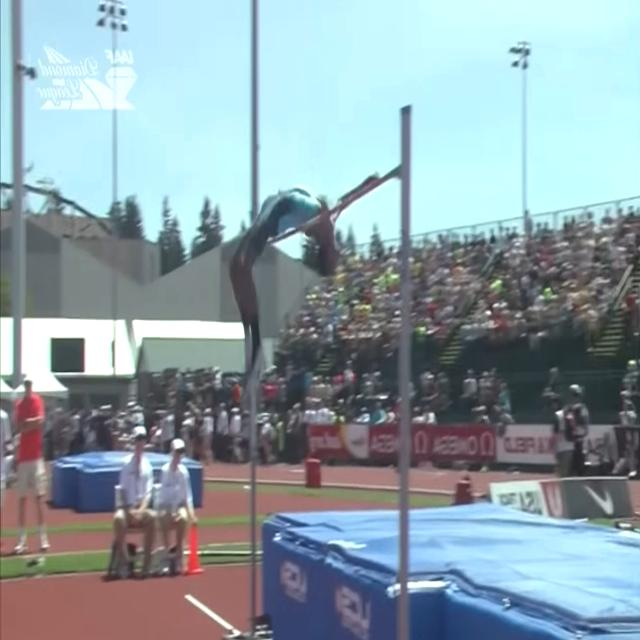jump: (228, 172, 380, 398)
